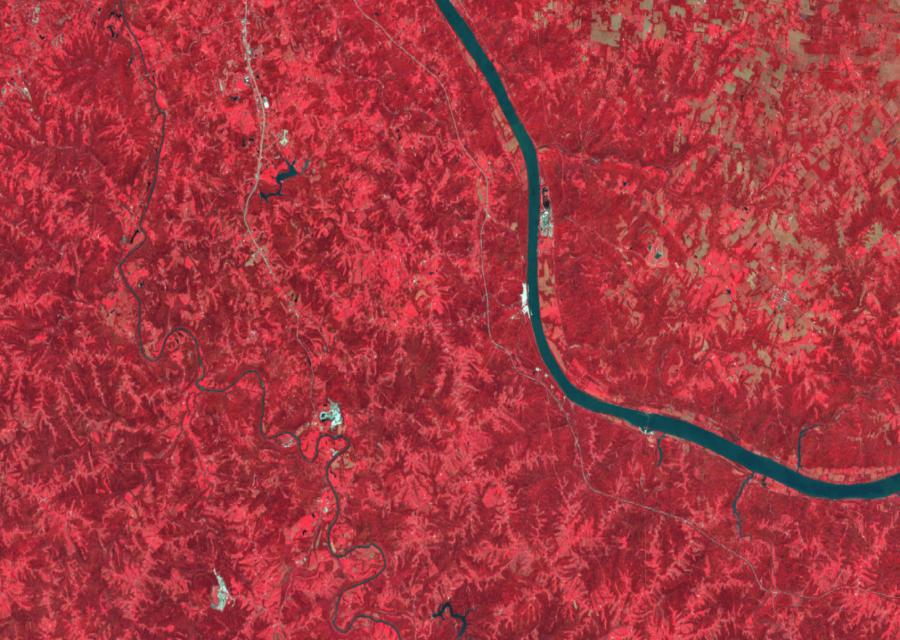Potential Lime Manufacturing Facility: (522, 282, 530, 318)
